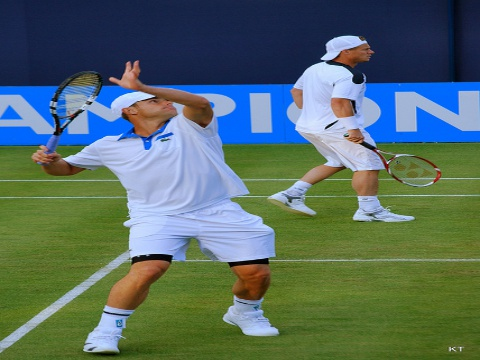hand: (108, 58, 142, 92), (30, 143, 56, 167), (345, 130, 365, 145)
